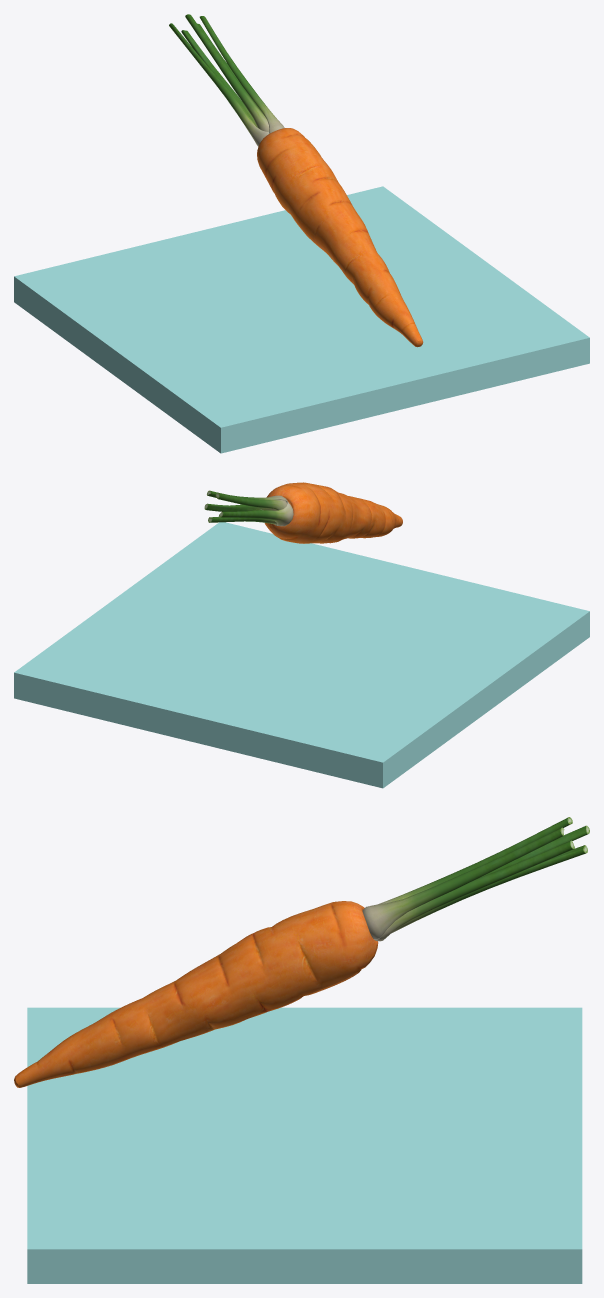
The model's file is zanahoria.DAE.
3 views of the same model, one above another, from view 1: azimuth 30°, elevation 25°; view 2: azimuth 150°, elevation 25°; view 3: azimuth 270°, elevation 25° (orthographic). The views are drawn at different scales.
Visible parts, largest first — view 1: Box001, Carrot_01; view 2: Box001, Carrot_01; view 3: Box001, Carrot_01.
Part boxes in pixels (left/top/right/bottom): Box001: left=14, top=186, right=589, bottom=453; Carrot_01: left=169, top=14, right=423, bottom=347; Box001: left=14, top=522, right=589, bottom=788; Carrot_01: left=204, top=482, right=402, bottom=543; Box001: left=27, top=1007, right=582, bottom=1283; Carrot_01: left=14, top=817, right=589, bottom=1087.
Size of the model in its own units: 129 by 130 by 83.6.
2 materials, 1 textured.
